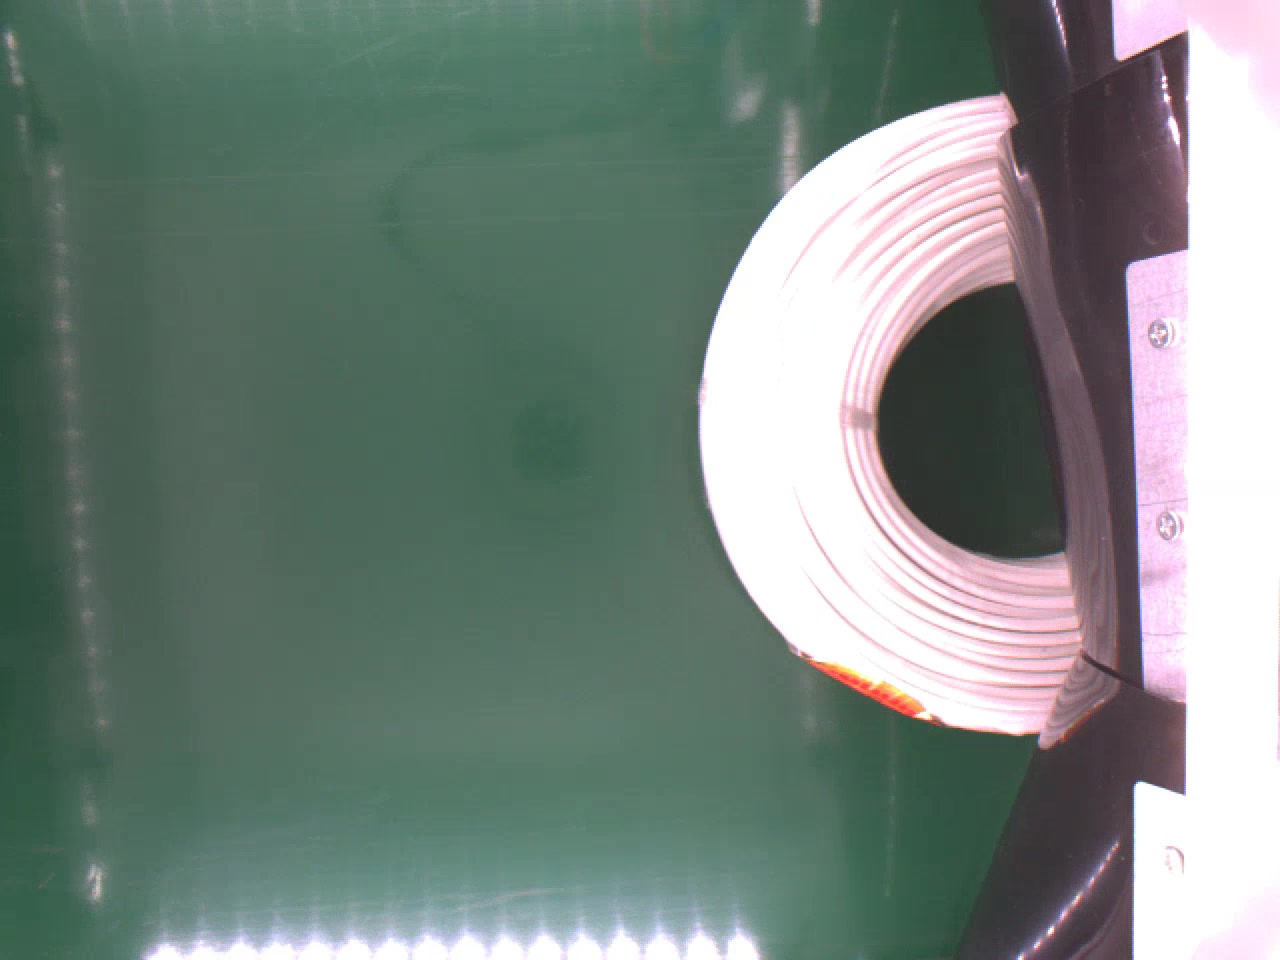white: (688, 91, 1089, 741)
